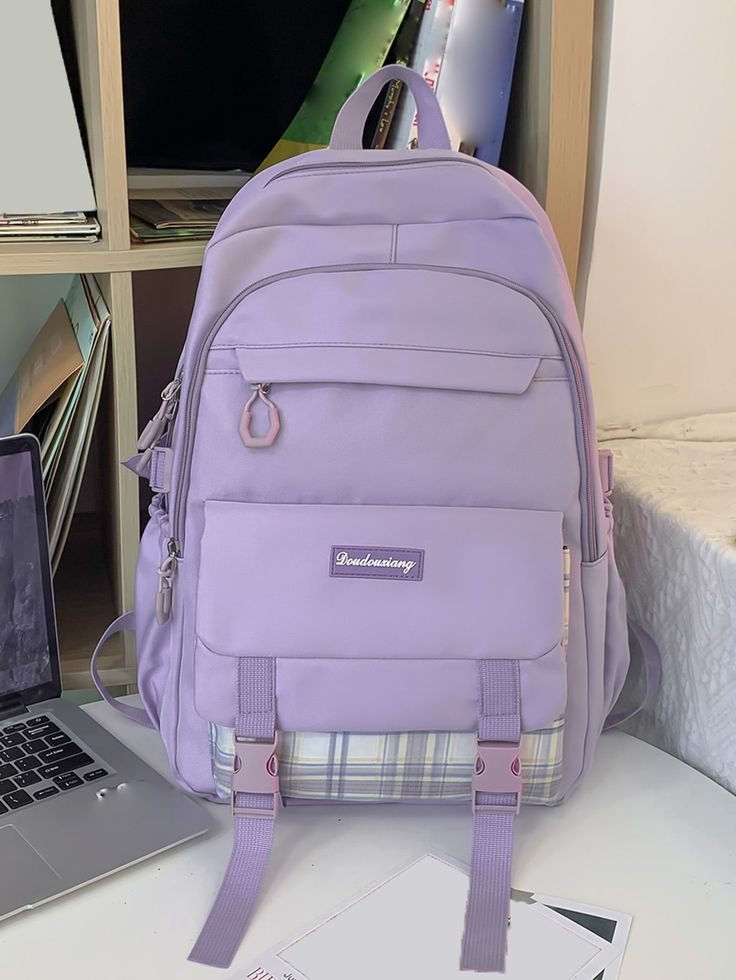nylon: (136, 148, 632, 810)
